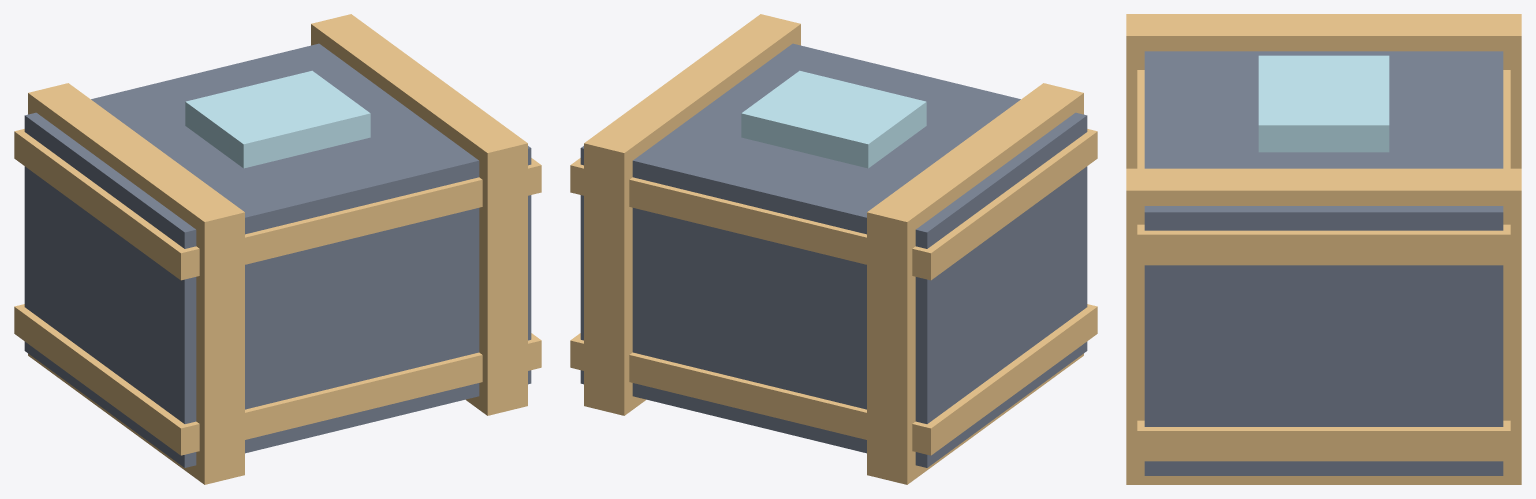
Rendered from box_loot.glb.
3 views of the same model, side by side, from view 1: azimuth 30°, elevation 25°; view 2: azimuth 150°, elevation 25°; view 3: azimuth 270°, elevation 25° (orthographic). The views are drawn at different scales.
Visible parts, largest first — view 1: crate_core, reinforce_x_-1, reinforce_x_1, reinforce_y_-1, reinforce_y_1, scanner; view 2: crate_core, reinforce_x_-1, reinforce_x_1, reinforce_y_-1, reinforce_y_1, scanner; view 3: crate_core, reinforce_x_1, reinforce_x_-1, reinforce_y_1, reinforce_y_-1, scanner.
Part boxes in pixels (left/top/right/bottom): crate_core: left=24, top=43, right=531, bottom=467; reinforce_x_-1: left=28, top=83, right=244, bottom=484; reinforce_x_1: left=311, top=14, right=527, bottom=415; reinforce_y_-1: left=14, top=304, right=541, bottom=455; reinforce_y_1: left=14, top=129, right=541, bottom=280; scanner: left=185, top=70, right=370, bottom=168; crate_core: left=580, top=43, right=1087, bottom=467; reinforce_x_-1: left=867, top=83, right=1083, bottom=484; reinforce_x_1: left=584, top=14, right=800, bottom=415; reinforce_y_-1: left=570, top=304, right=1097, bottom=455; reinforce_y_1: left=570, top=129, right=1097, bottom=280; scanner: left=741, top=70, right=926, bottom=168; crate_core: left=1144, top=51, right=1503, bottom=475; reinforce_x_1: left=1126, top=168, right=1521, bottom=484; reinforce_x_-1: left=1126, top=14, right=1521, bottom=168; reinforce_y_1: left=1137, top=70, right=1510, bottom=265; reinforce_y_-1: left=1137, top=420, right=1510, bottom=461; scanner: left=1258, top=55, right=1389, bottom=152.
Size of the model in its own units: 1.25 by 0.905 by 1.06.
